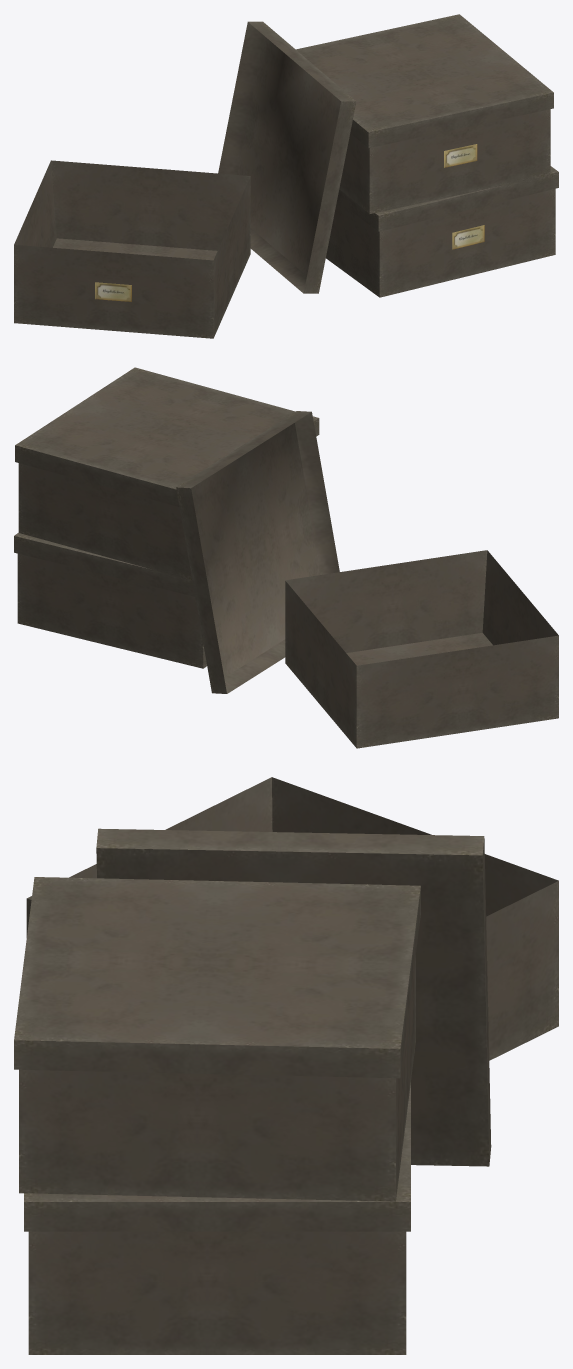
File: shop_tailor_hatBox_3pile.fbx
3 views of the same model, one above another, from view 1: azimuth 30°, elevation 25°; view 2: azimuth 150°, elevation 25°; view 3: azimuth 270°, elevation 25° (orthographic). The views are drawn at different scales.
Visible parts, largest first — view 1: box_bottom.002, box_top.002, box_top.001, box_bottom, box_bottom.001, box_top, box_tag.002, box_tag.001, box_tag; view 2: box_bottom.002, box_top.002, box_top.001, box_bottom, box_bottom.001, box_top; view 3: box_top.001, box_bottom.001, box_bottom, box_top.002, box_bottom.002, box_top.
Part boxes in pixels (bbox=[...]): box_bottom.002: bbox=[14, 160, 250, 338]; box_top.002: bbox=[218, 21, 356, 293]; box_top.001: bbox=[296, 14, 553, 148]; box_bottom: bbox=[326, 188, 555, 297]; box_bottom.001: bbox=[339, 109, 550, 213]; box_top: bbox=[337, 166, 558, 231]; box_tag.002: bbox=[95, 282, 131, 301]; box_tag.001: bbox=[444, 144, 477, 167]; box_tag: bbox=[452, 225, 484, 249]; box_bottom.002: bbox=[285, 550, 558, 748]; box_top.002: bbox=[176, 411, 339, 693]; box_top.001: bbox=[15, 367, 319, 506]; box_bottom: bbox=[17, 553, 206, 668]; box_bottom.001: bbox=[18, 463, 192, 580]; box_top: bbox=[14, 533, 194, 596]; box_top.001: bbox=[14, 877, 420, 1078]; box_bottom.001: bbox=[19, 955, 415, 1201]; box_bottom: bbox=[28, 1231, 406, 1354]; box_top.002: bbox=[96, 828, 491, 1166]; box_bottom.002: bbox=[26, 777, 558, 1060]; box_top: bbox=[24, 1083, 410, 1231].
Bounding box in the file's own units: 361 × 136 × 191.
Materials: 1 (1 with a texture image).
